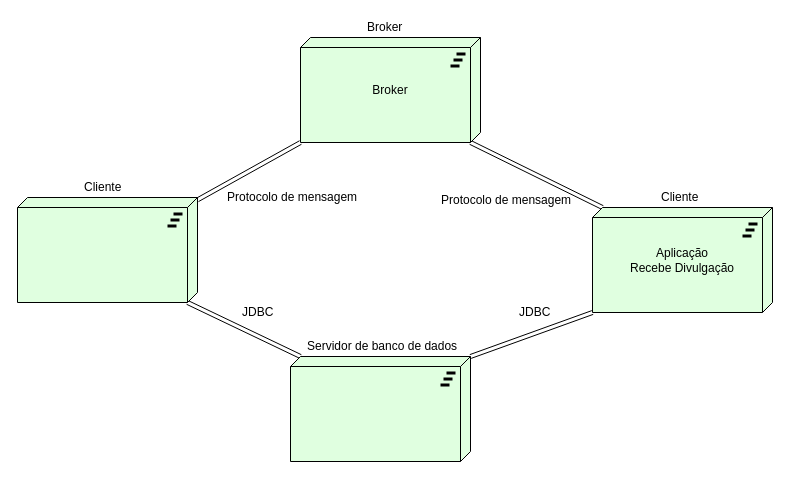
Image size: 790x479. Some labels were removed from this diagram. The centre of each missing label's shape, as x and y in pixels:
Aplicação Envia Divulgação: the point at 107,249
MYSQL: the point at 380,409
